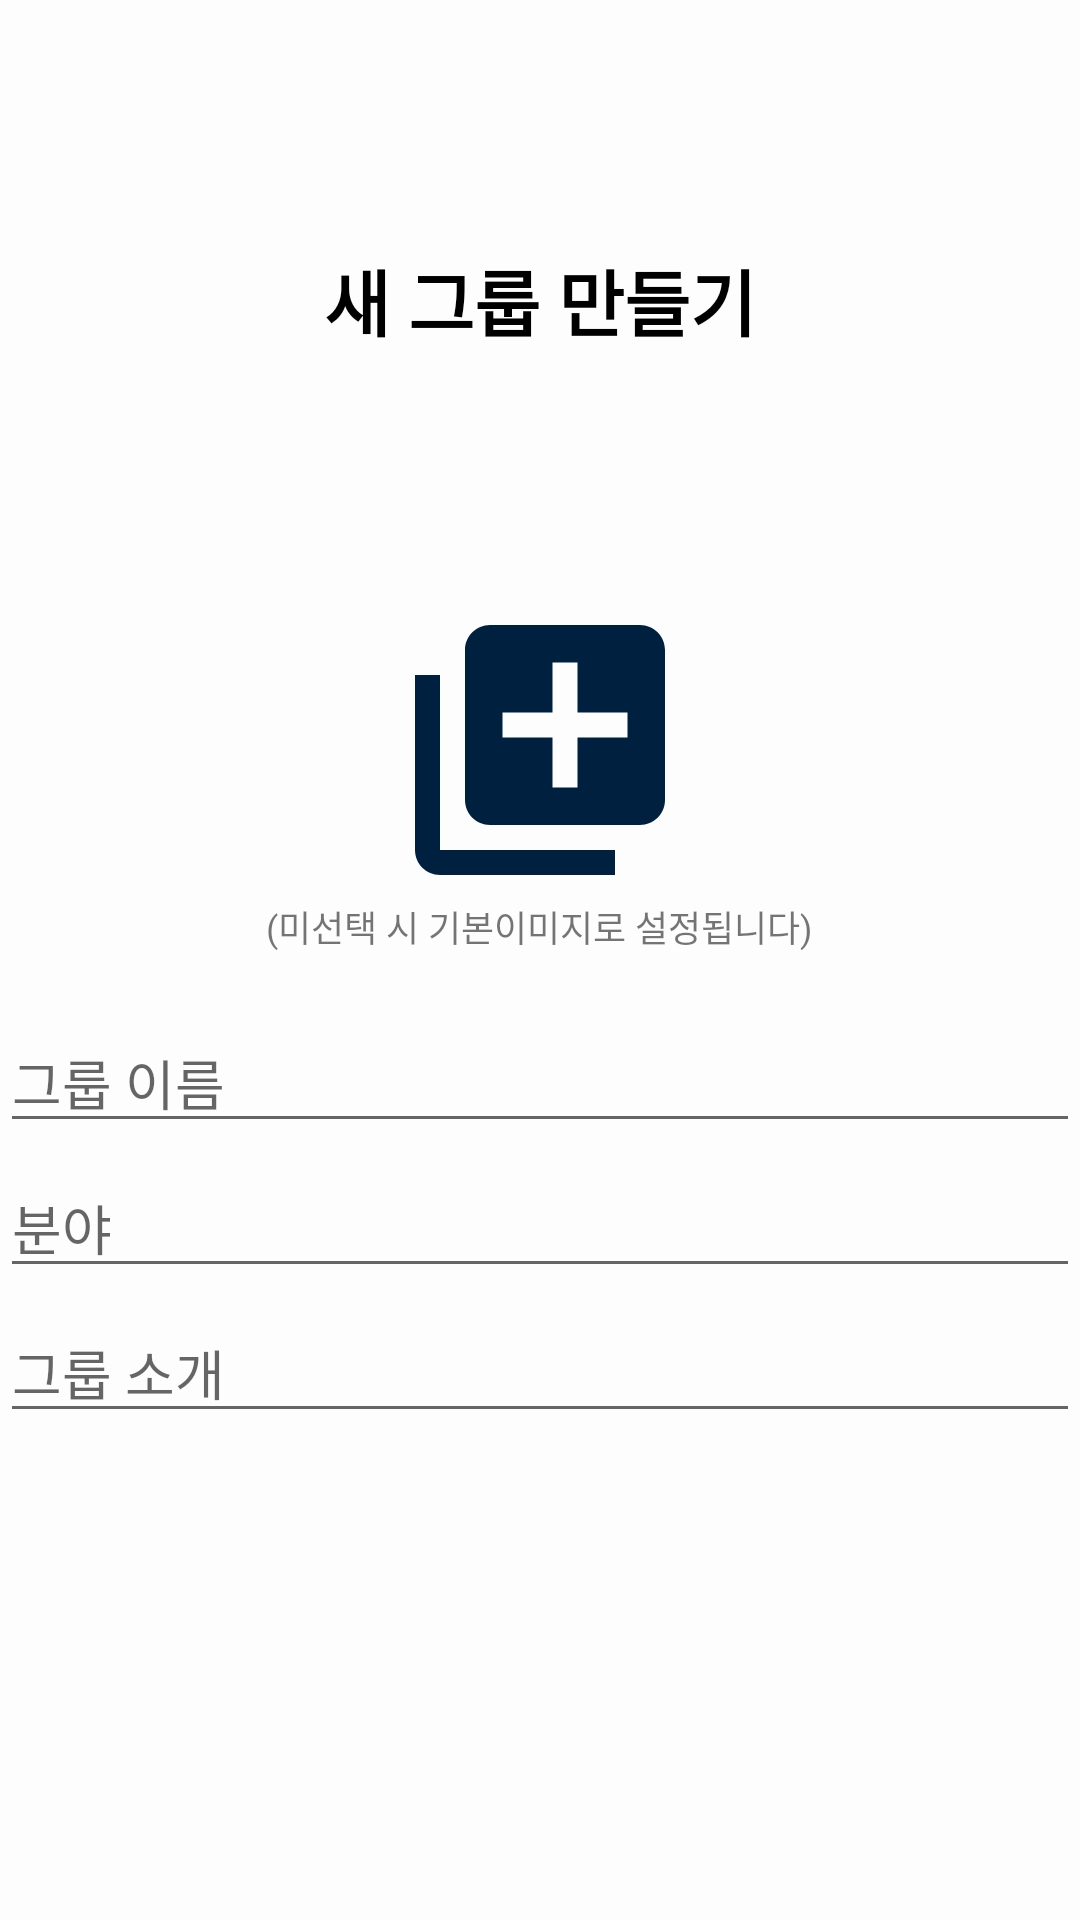

Icon click points for this 1080w x 1920h phone screenshot, format (x,y):
add to photos: (540,750)
